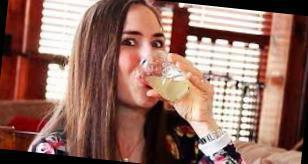Drunk: (120, 13, 168, 103)
